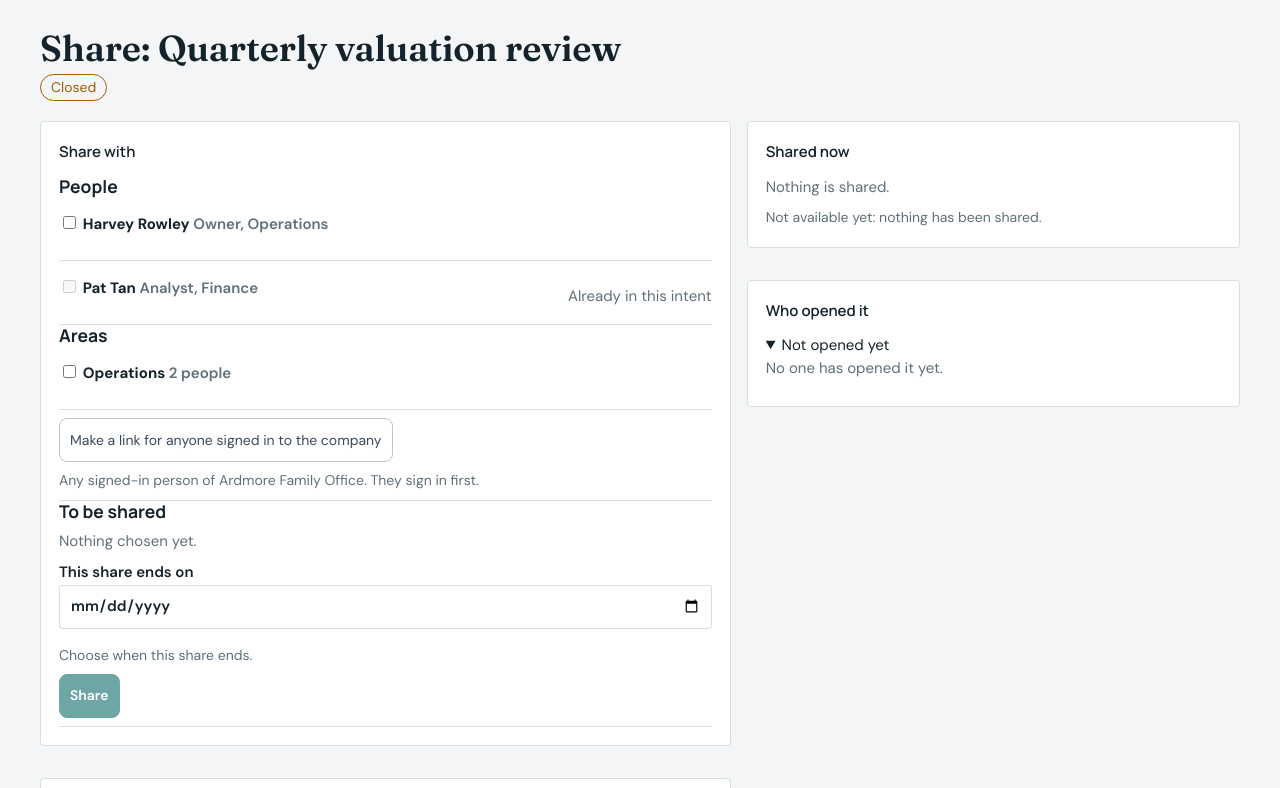
Test case: Share stays off until a row and an expiry exist; the link is shown once
Expected: the button "Share" is disabled, [59,674,120,718]
Expected: the text "Already in this intent" is shown, [568,285,712,308]
Step 1. Click the button "Make a link for anyone signed in to the company" → (226, 440), box [59,418,393,462]
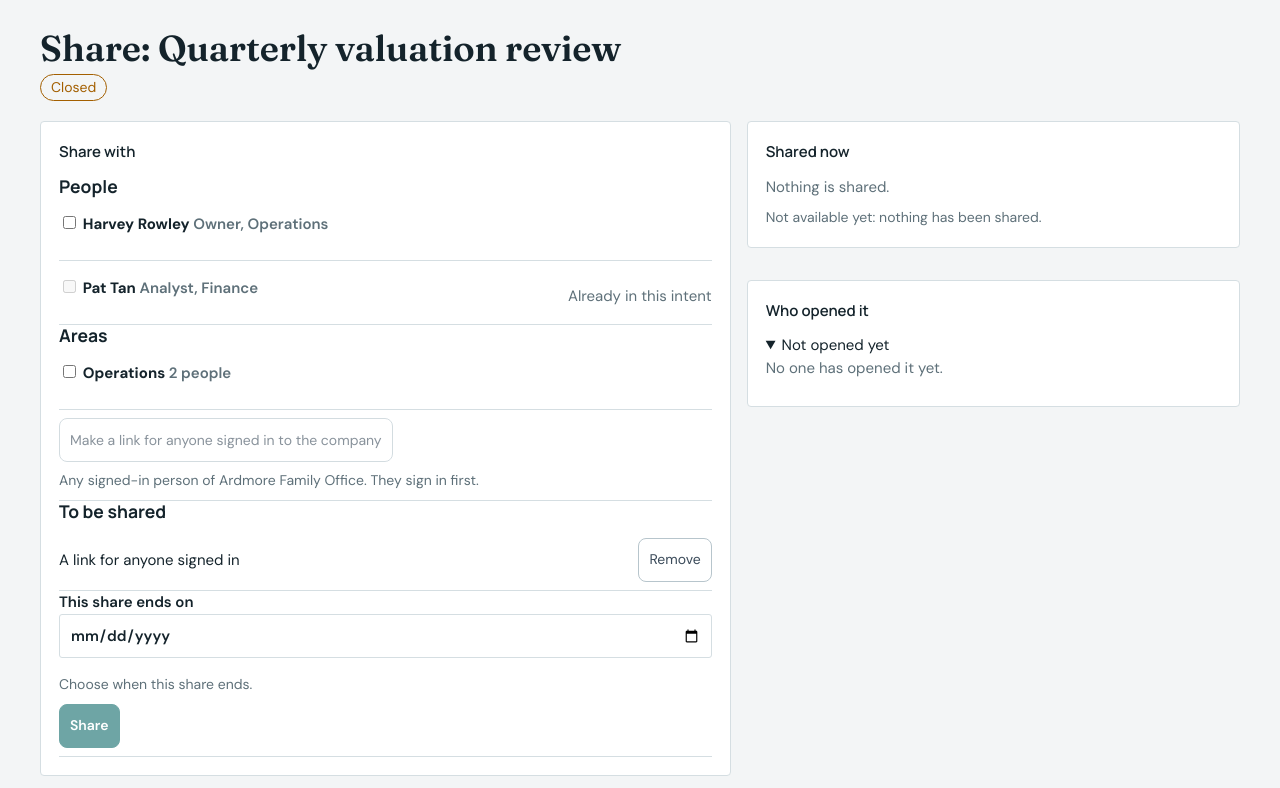
Expected: the button "Share" is disabled, [59,704,120,748]
Step 2. Type "2026-11-01" into the date field labelled "This share ends on" → (385, 636), box [59,614,712,658]
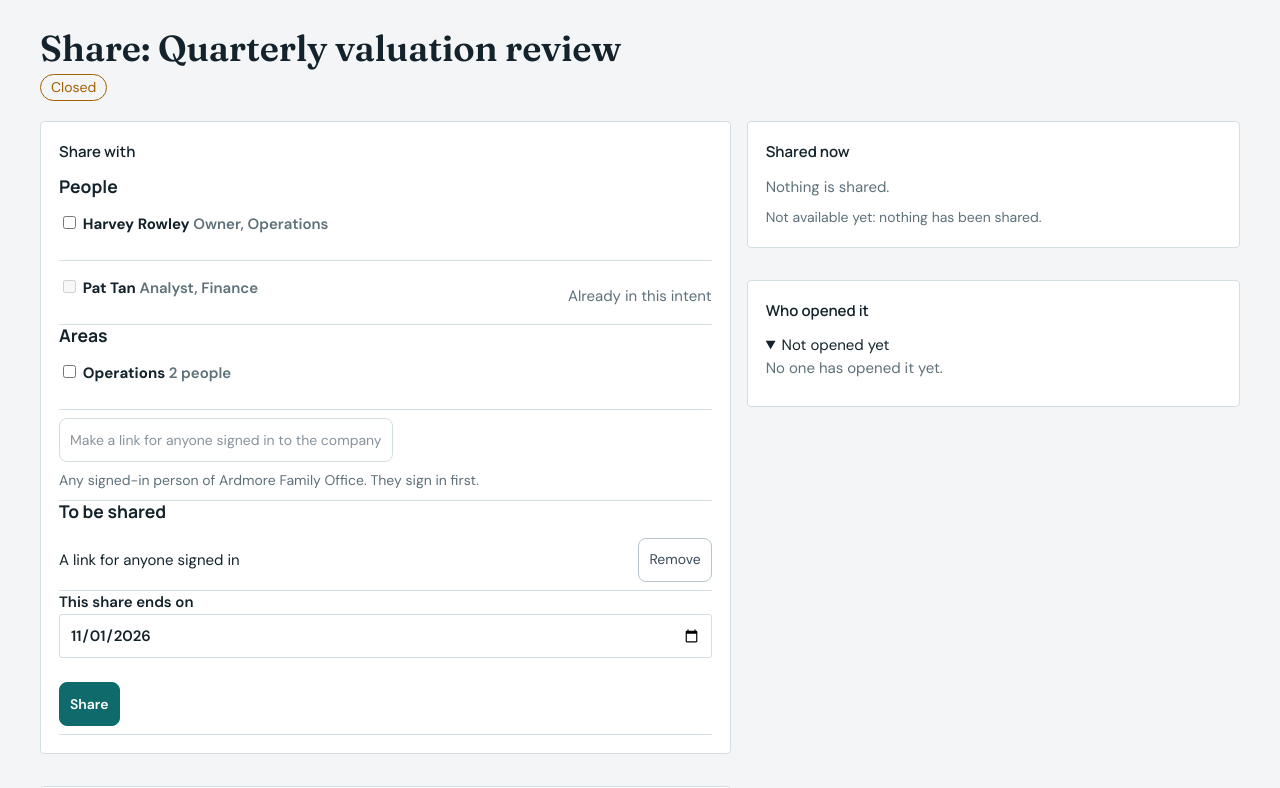
Now the button "Share" is enabled
Step 3. Click the button "Share" → (89, 704), box [59,682,120,726]
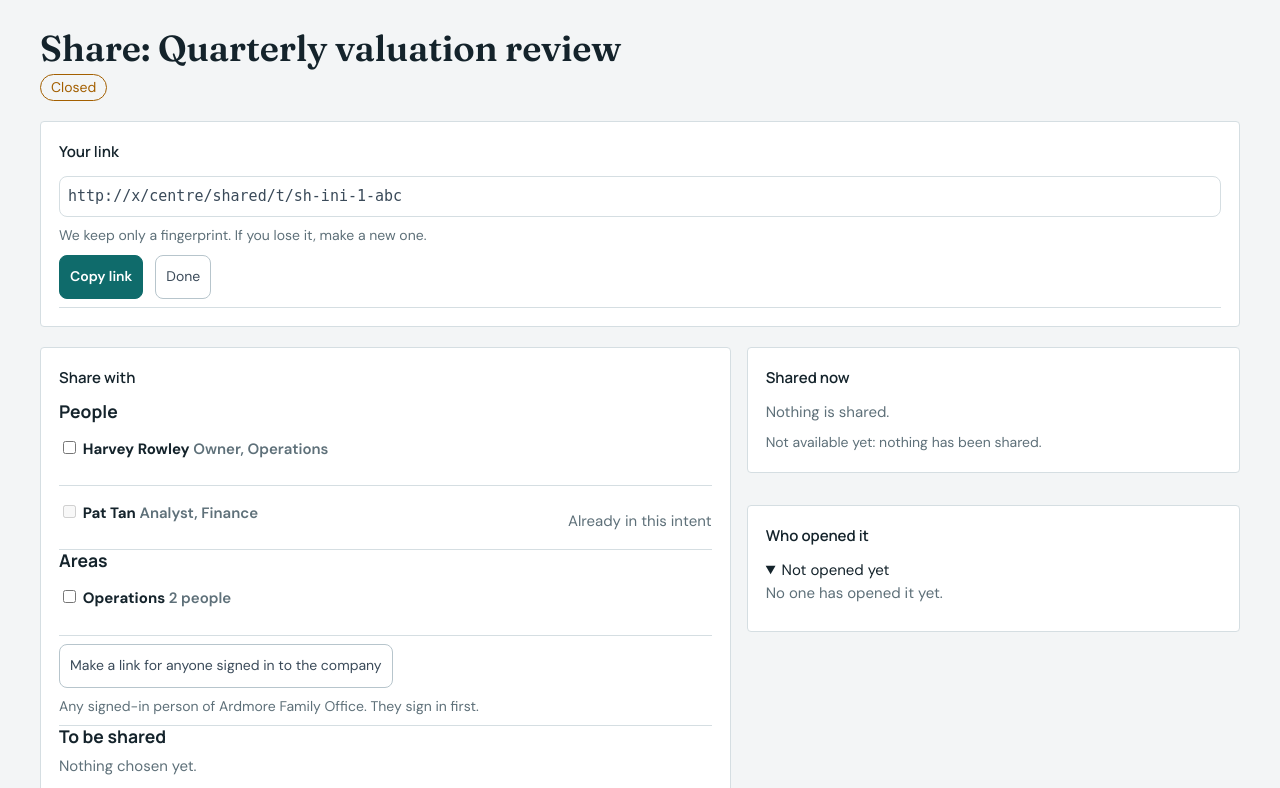
Now the text "We keep only a fingerprint. If you lose it, make a new one." is shown, box [59,226,426,244]
